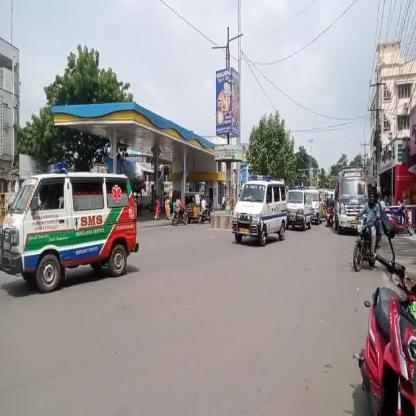priority: (0, 158, 150, 288), (223, 171, 286, 251), (331, 168, 373, 204), (290, 180, 310, 244), (314, 186, 320, 232)
